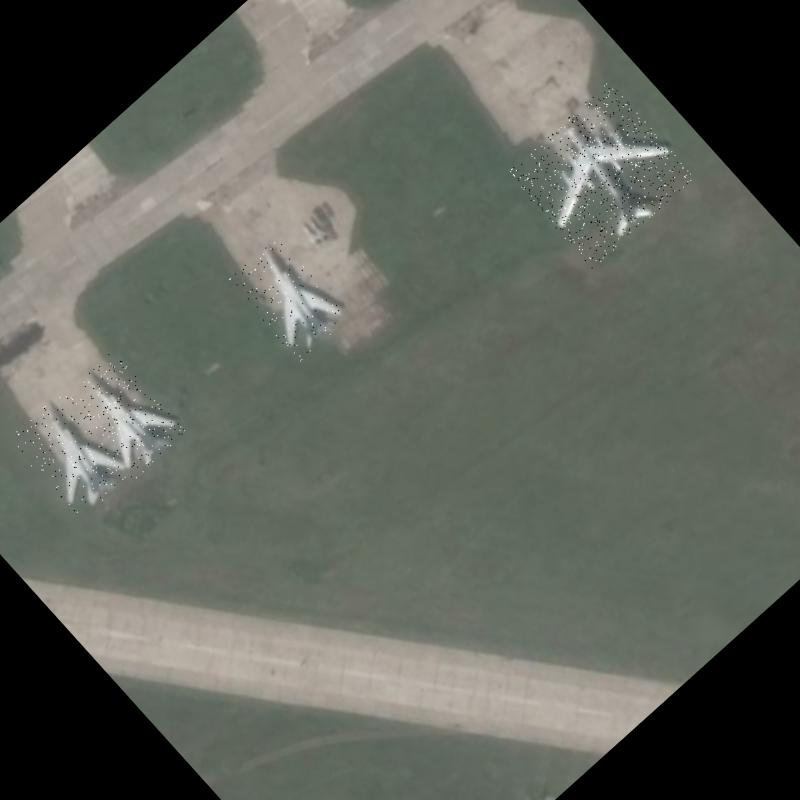A12: (59, 350, 187, 481), (7, 390, 134, 520), (226, 236, 350, 362)
A17: (506, 81, 695, 268)
